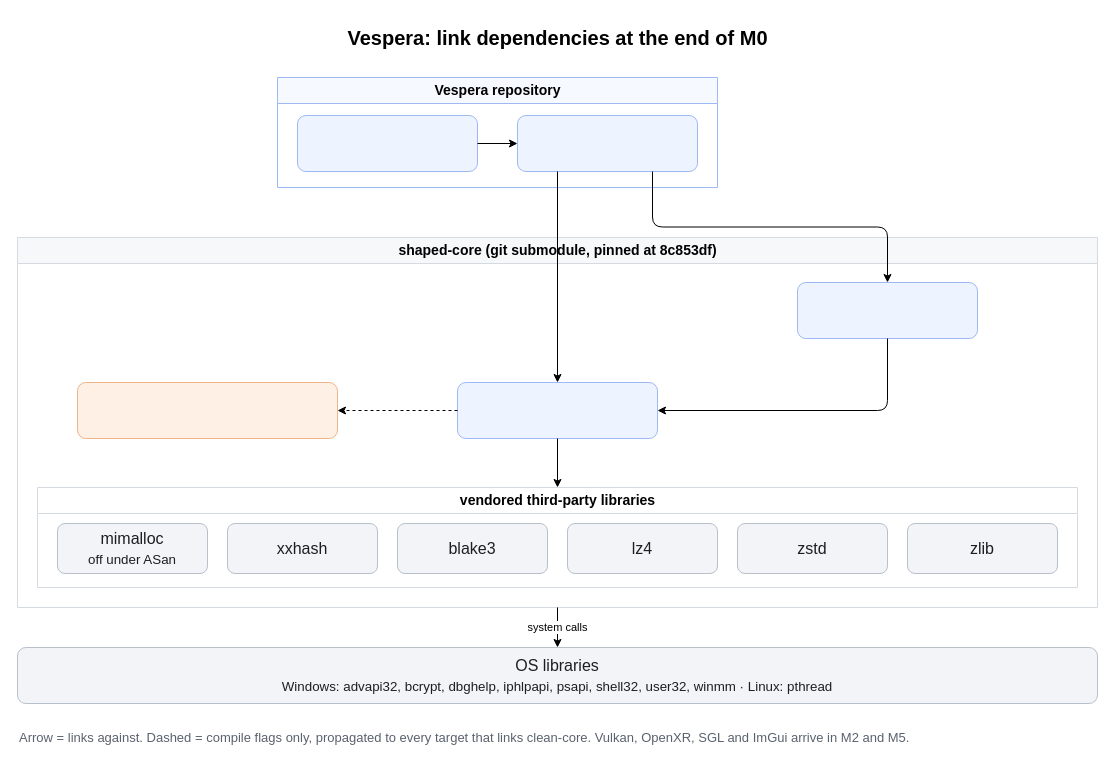
Some shapes in this 1115 by 774 pixel diagram are drawn without their labels. Each missing label, with the centre of its shape:
"build-config -march=x86-64-v3, -ffp-contract=off" goes at pixel 207 410.
"clean-core containers, assert, logging" goes at pixel 557 410.
"typed-geometry vectors, matrices" goes at pixel 887 310.
"vespera game executable" goes at pixel 387 143.
"vespera_engine static library" goes at pixel 607 143.
